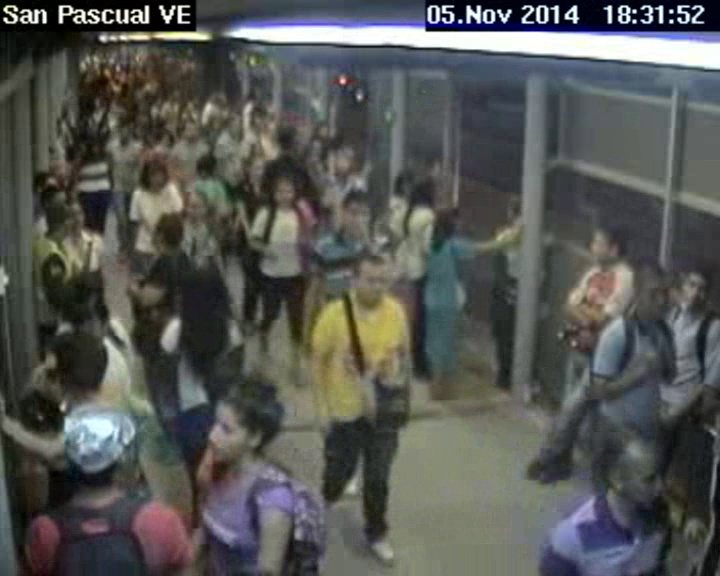person: (43, 401, 137, 488), (201, 376, 284, 469), (595, 417, 670, 517), (36, 331, 116, 403), (182, 257, 225, 337), (628, 258, 672, 324), (344, 251, 390, 306), (590, 222, 635, 269), (676, 266, 714, 315), (340, 186, 373, 241), (425, 207, 467, 250), (43, 201, 79, 251), (264, 171, 303, 214), (399, 170, 436, 208), (139, 160, 175, 193), (153, 211, 180, 253), (183, 187, 209, 222), (499, 192, 527, 223), (36, 186, 68, 205), (197, 151, 214, 184), (275, 126, 296, 152), (33, 171, 58, 192), (181, 118, 201, 143), (249, 107, 270, 130), (221, 117, 241, 138), (116, 122, 131, 148), (211, 88, 230, 107), (313, 119, 330, 140), (80, 136, 98, 155), (89, 93, 105, 111), (165, 87, 180, 101), (182, 98, 196, 112), (152, 93, 160, 106)
